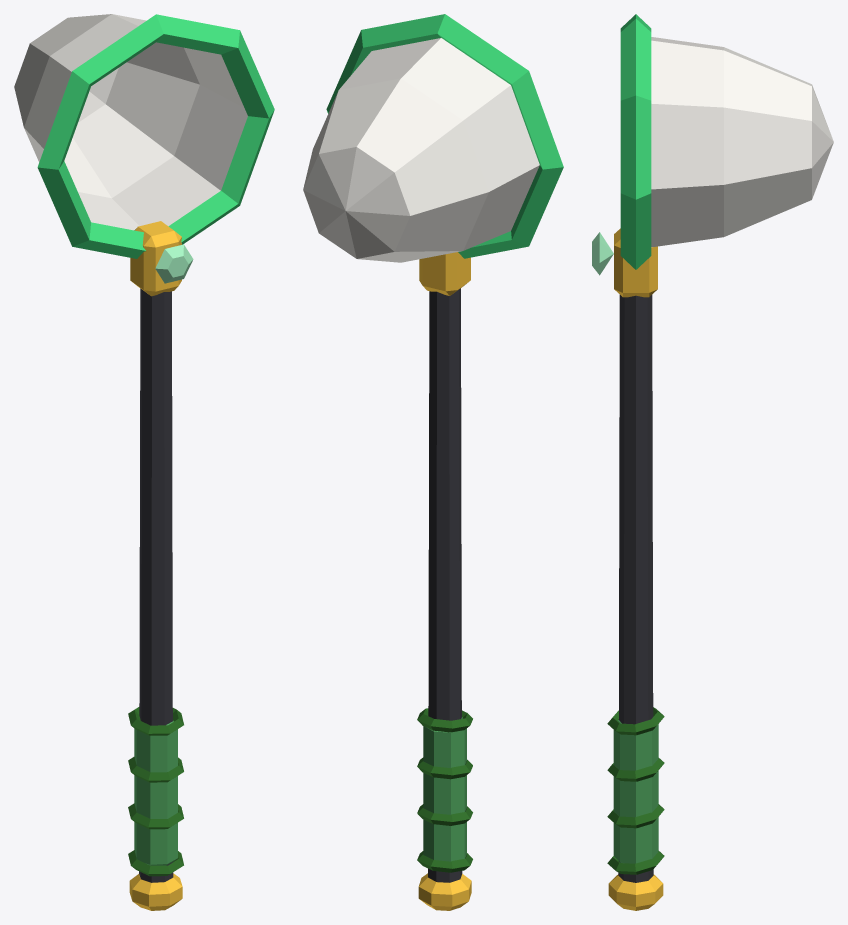
The model's file is EmeraldBugNet.fbx.
3 renders of one model, left to right at view 1: azimuth 30°, elevation 25°; view 2: azimuth 150°, elevation 25°; view 3: azimuth 270°, elevation 25°, orthographic.
Parts seen in each view (by area): view 1: EmeraldBugNet; view 2: EmeraldBugNet; view 3: EmeraldBugNet.
Part boxes in pixels (left/top/right/bottom): EmeraldBugNet: left=14, top=14, right=274, bottom=910; EmeraldBugNet: left=303, top=14, right=563, bottom=910; EmeraldBugNet: left=592, top=14, right=833, bottom=910.
Size of the model in its own units: 1.24 by 4.44 by 1.1.
1 material, 1 textured.
